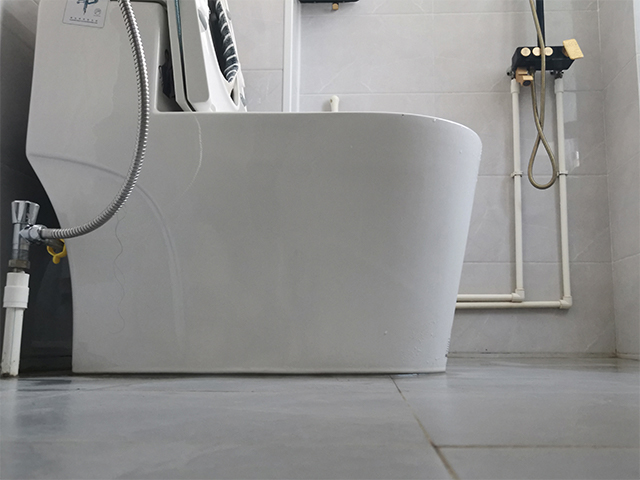closestool: (23, 1, 486, 376)
